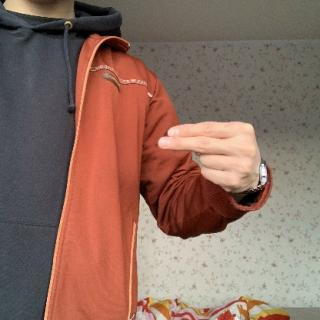AYN: (156, 118, 264, 194)
